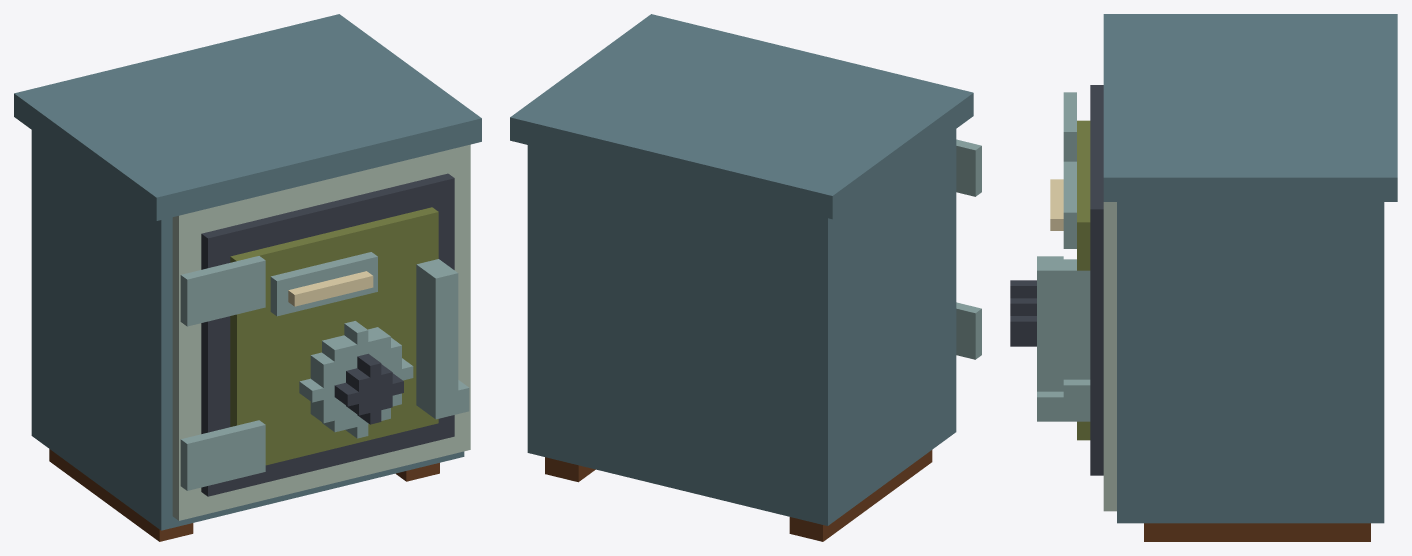
File: voxel_32_30018.glb
3 renders of one model, left to right at view 1: azimuth 30°, elevation 25°; view 2: azimuth 150°, elevation 25°; view 3: azimuth 270°, elevation 25°, orthographic. The views are drawn at different scales.
Visible parts, largest first — view 1: prop_30018; view 2: prop_30018; view 3: prop_30018.
Part boxes in pixels (left/top/right/bottom): prop_30018: left=14, top=14, right=481, bottom=541; prop_30018: left=510, top=14, right=981, bottom=541; prop_30018: left=1010, top=14, right=1397, bottom=541.
Size of the model in its own units: 0.7522 by 0.8041 by 0.7522.
